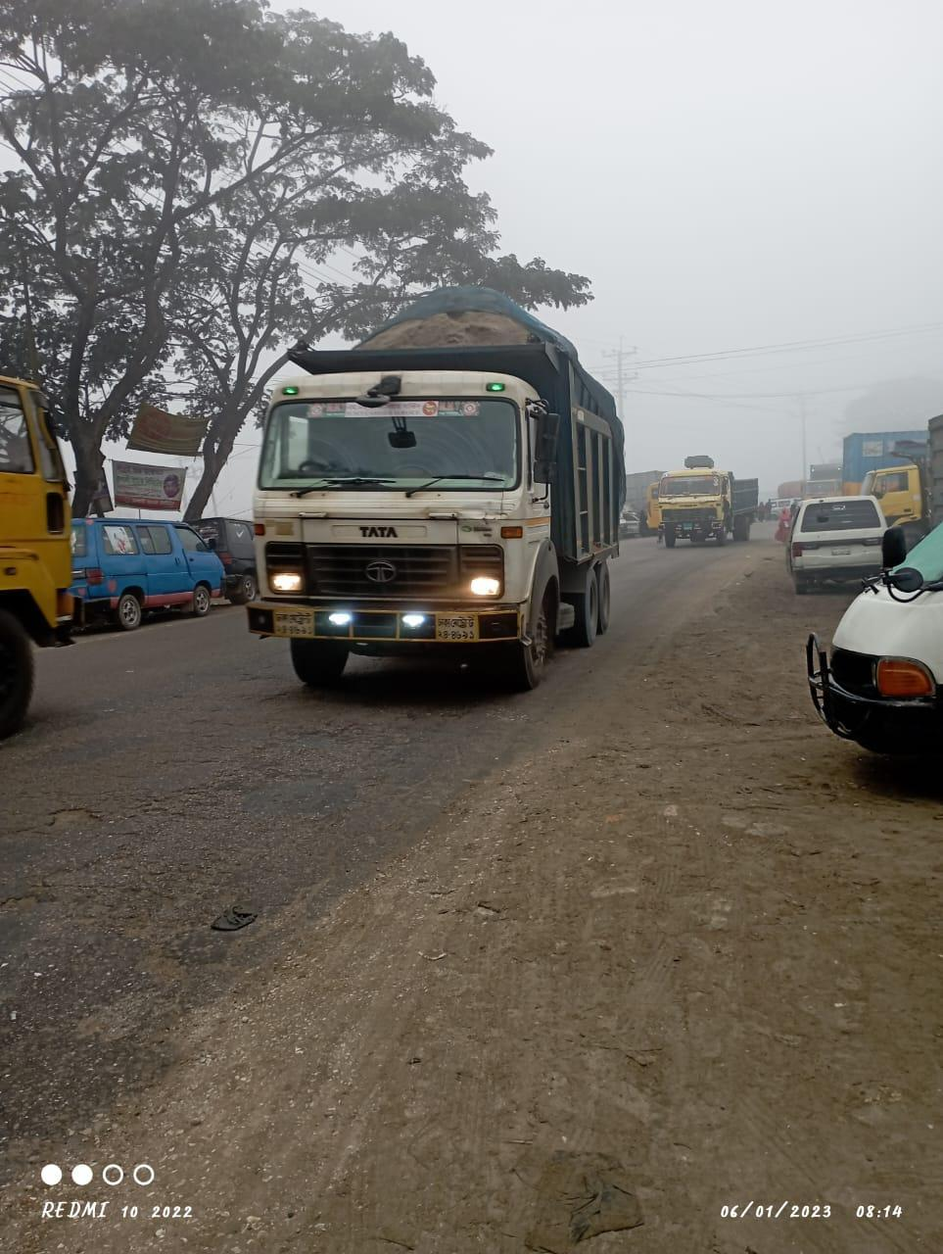Car: (76, 498, 237, 638), (780, 477, 901, 599)
Truck: (237, 286, 633, 690), (1, 358, 84, 740), (655, 456, 765, 550)
